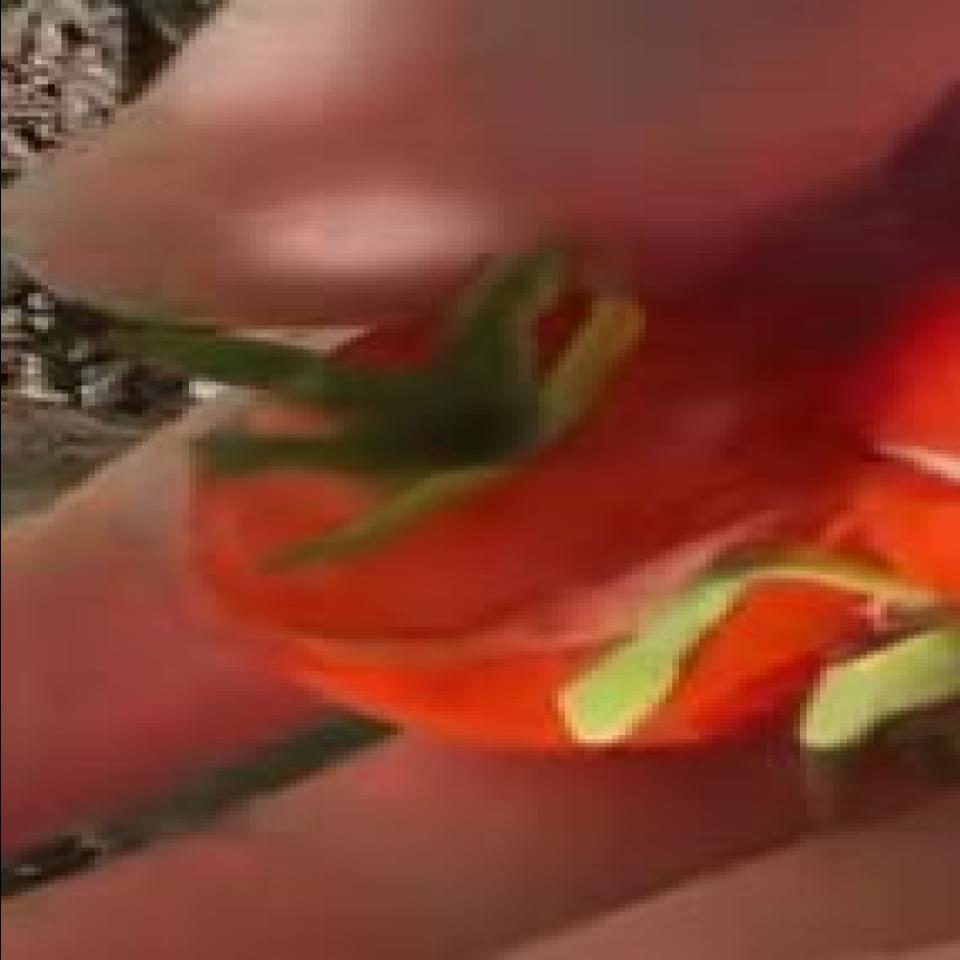Cracking: (216, 518, 792, 694)
